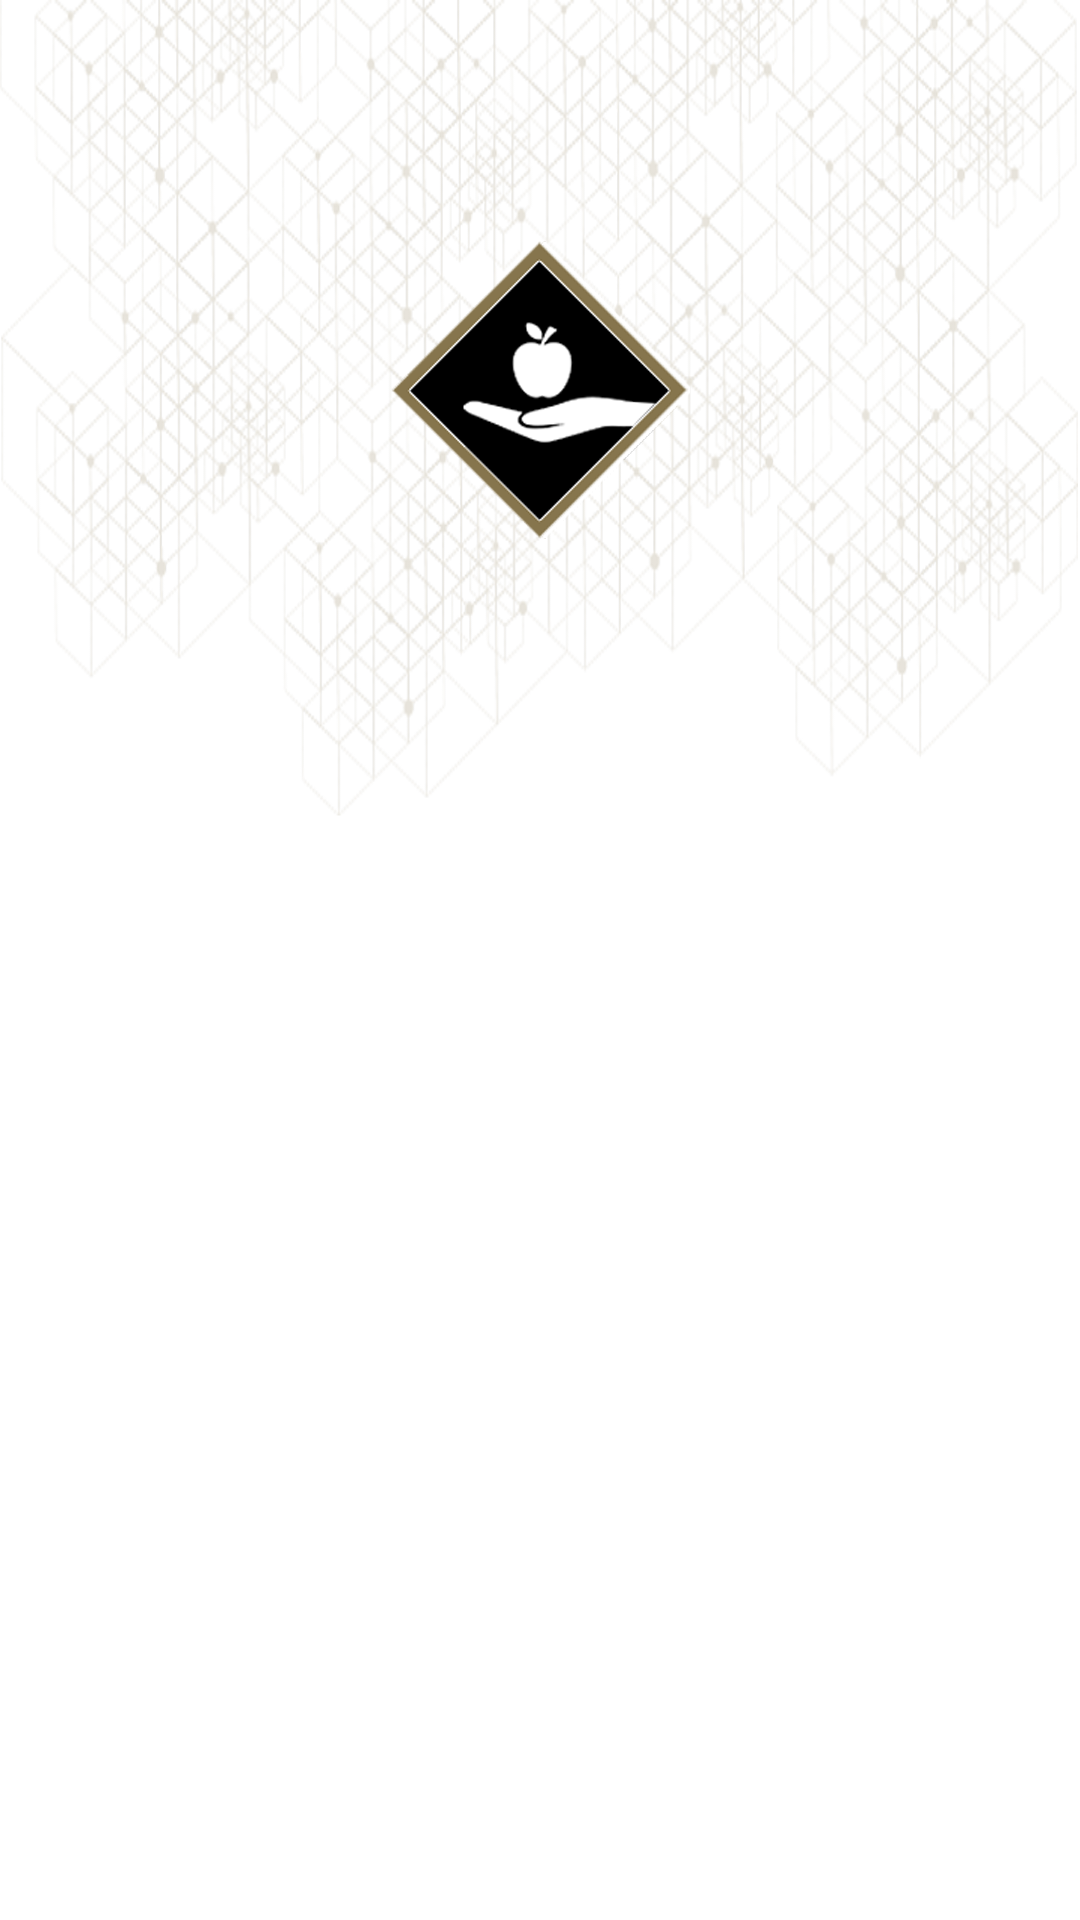

Locate icon controls on the screen. Image size 1080*1920, boxes as box=[x1, y1, x2, y2].
apple: box=[390, 240, 690, 540]
